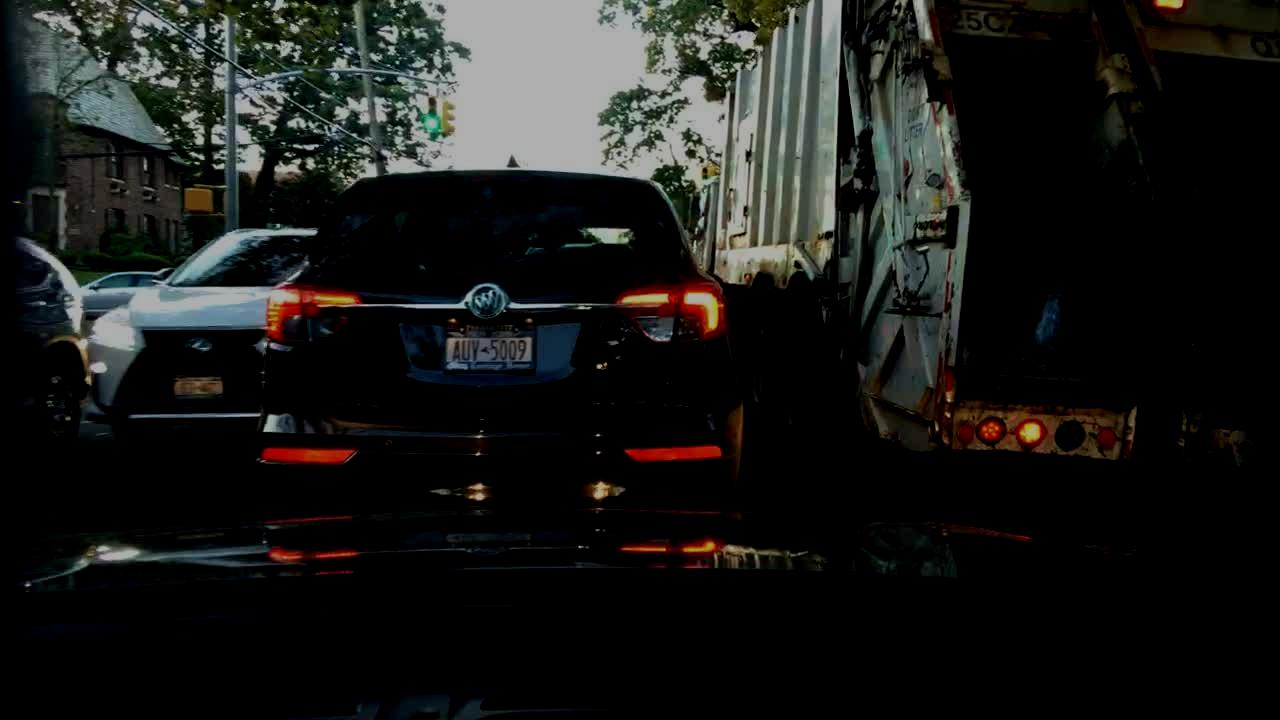lexus: (182, 332, 216, 362)
